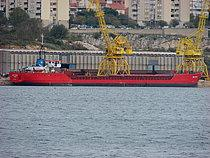Ship: (7, 60, 204, 91)
